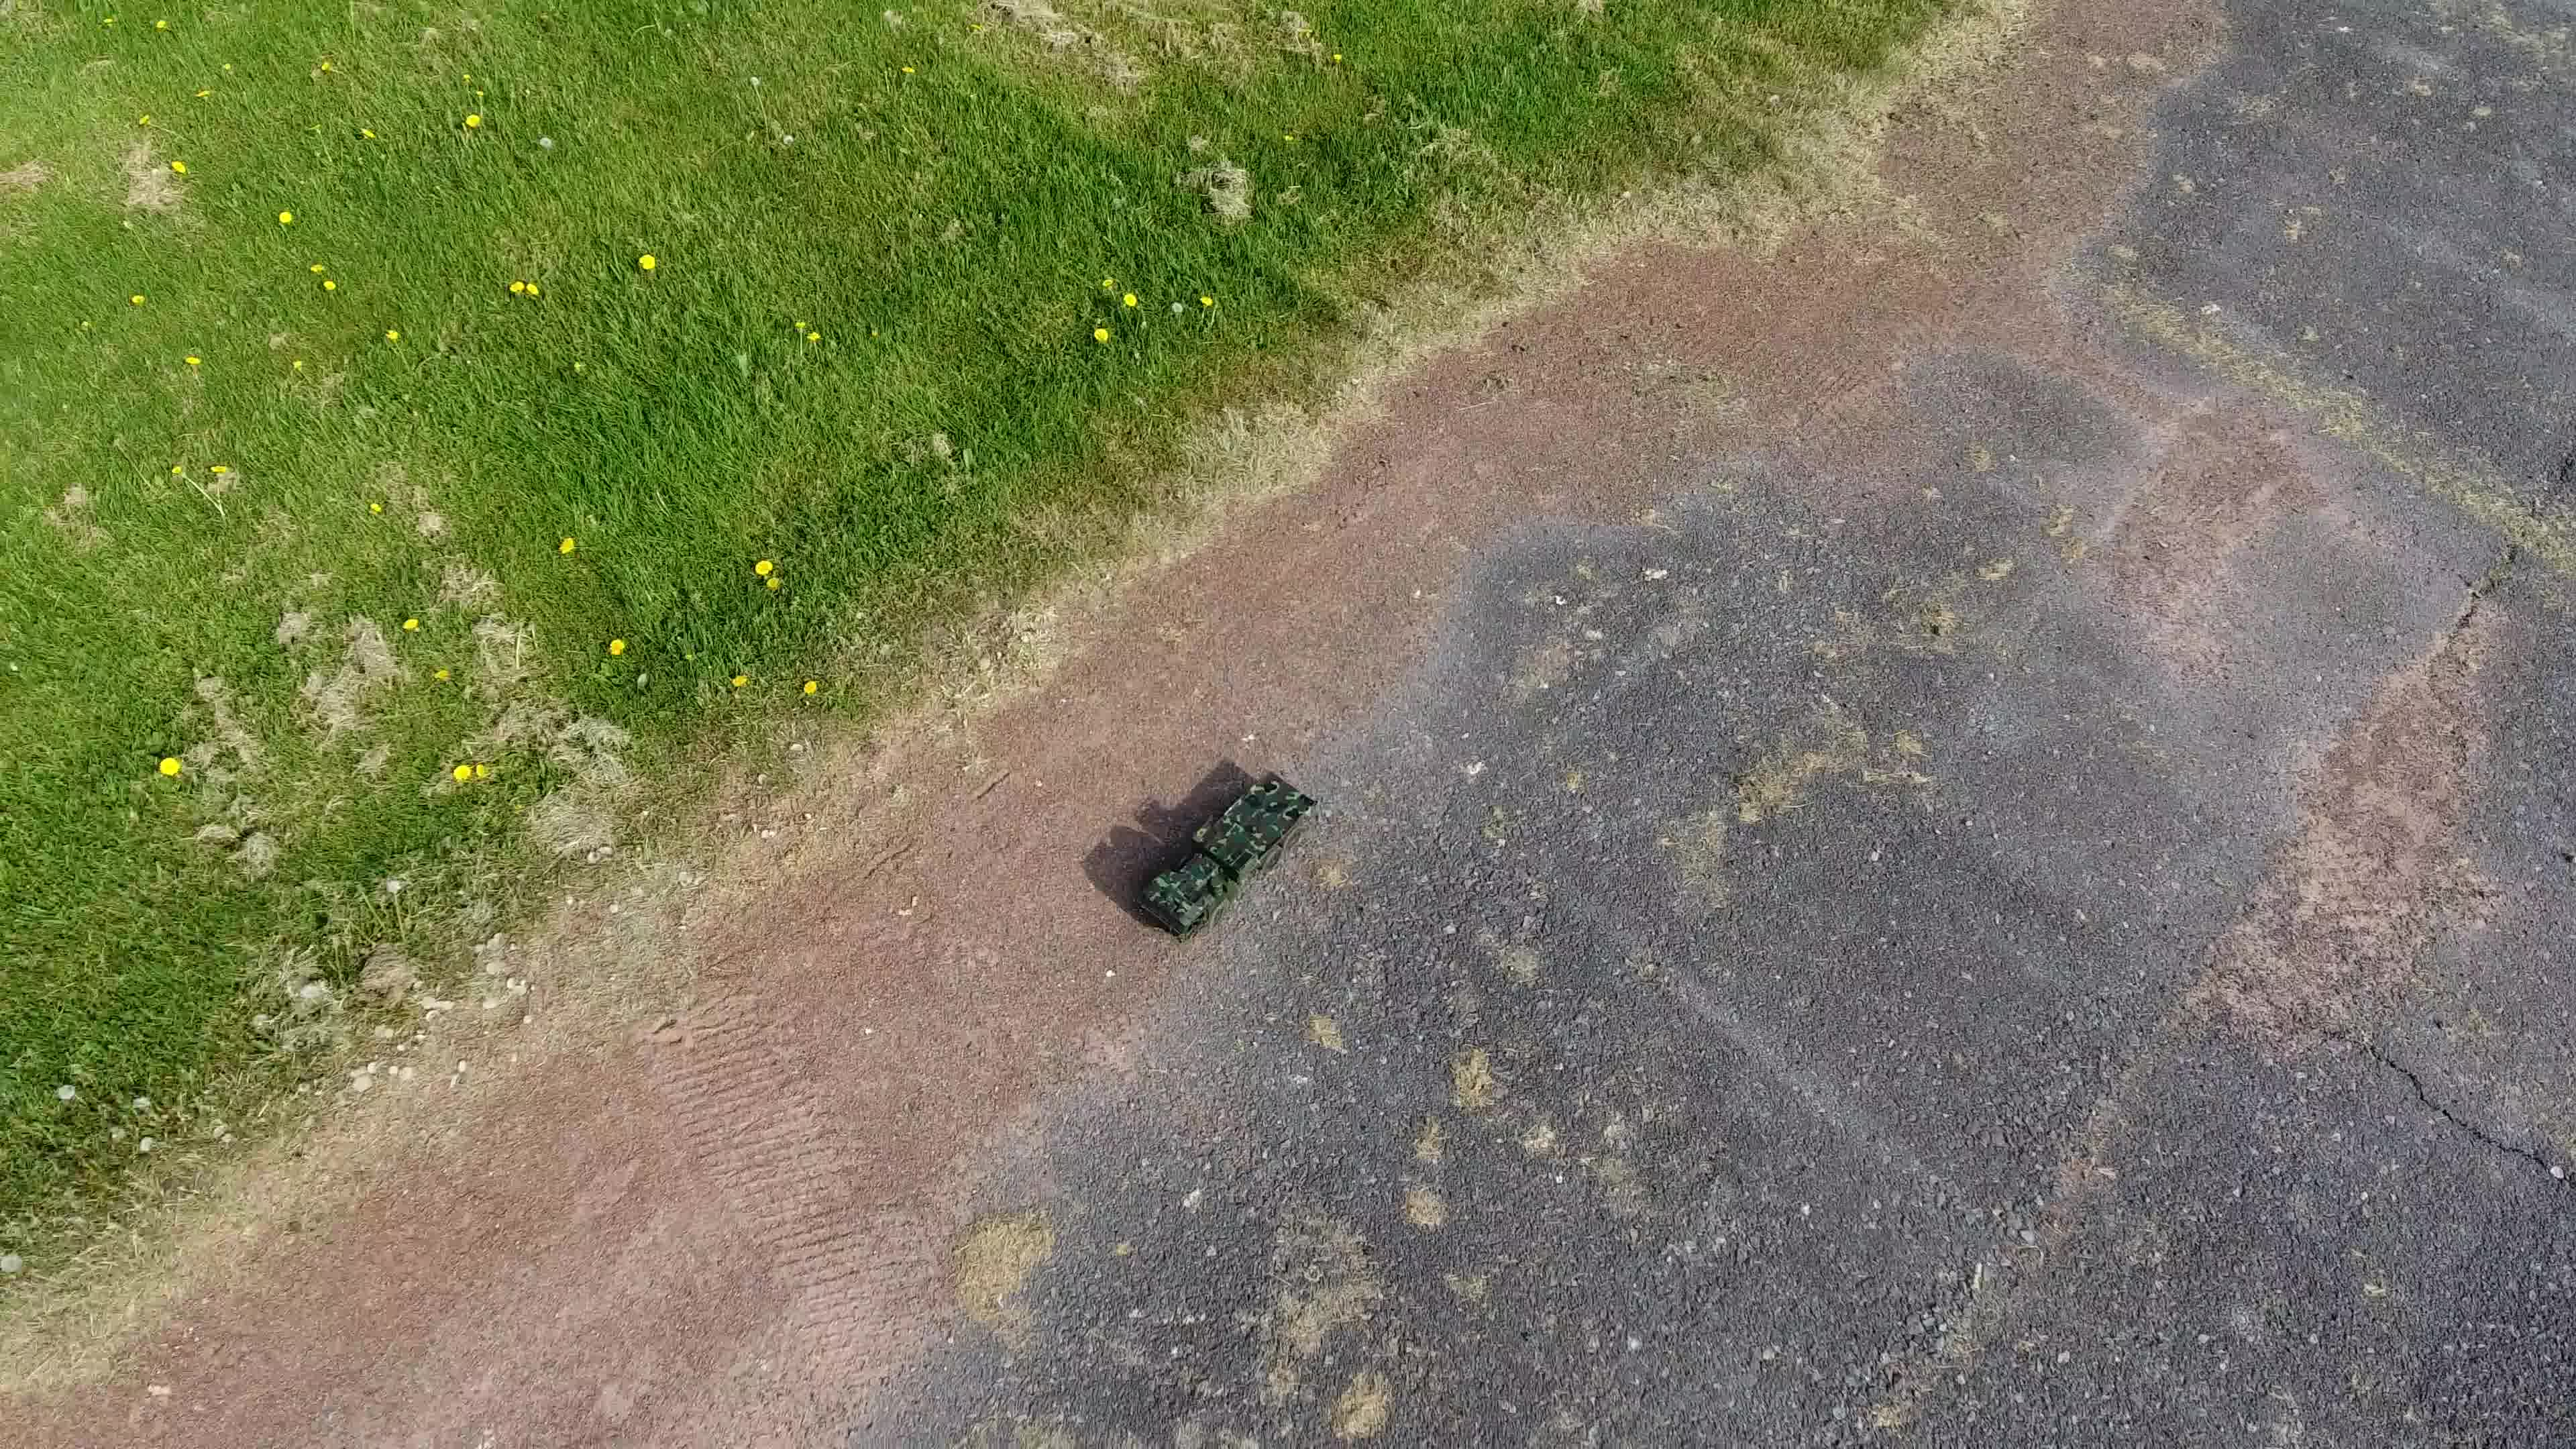transporter9: (1127, 766, 1320, 947)
